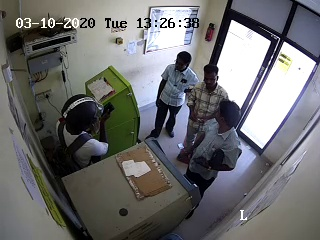helmet: (60, 92, 106, 136)
